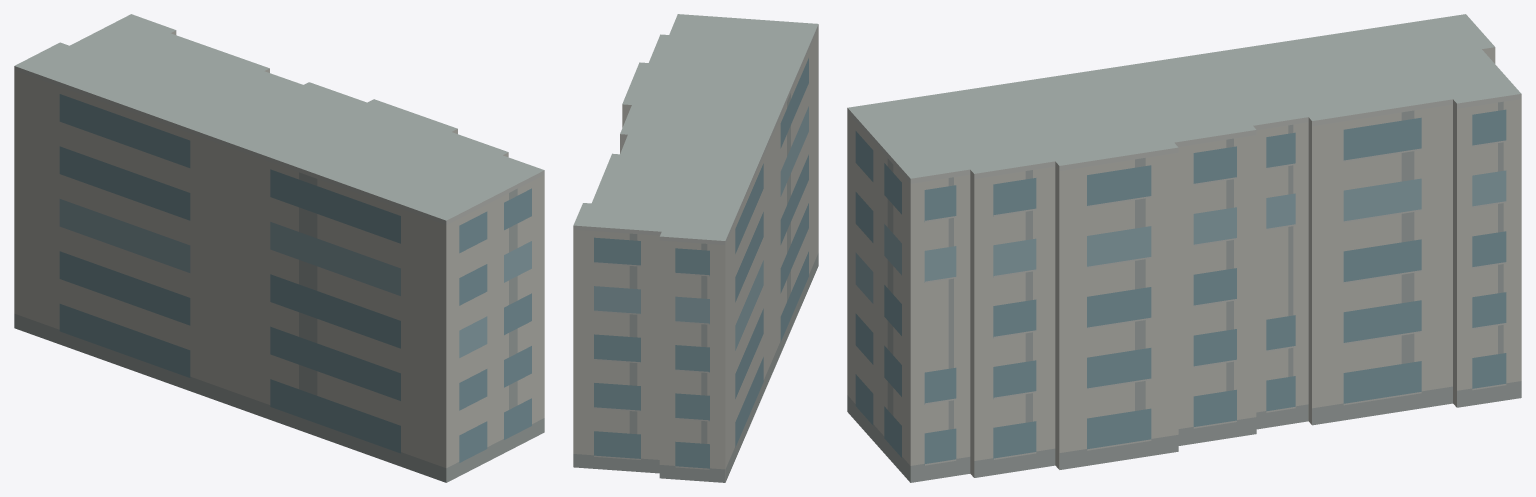
The model's file is survey-upis-32563613.glb.
The picture shows the model from 3 angles, left to right: view 1: azimuth 30°, elevation 25°; view 2: azimuth 150°, elevation 25°; view 3: azimuth 270°, elevation 25°; orthographic projection. The views are drawn at different scales.
Parts seen in each view (by area): view 1: survey-upis-32563613.tmp; view 2: survey-upis-32563613.tmp; view 3: survey-upis-32563613.tmp.
Boxes of the visible parts, <box> form: survey-upis-32563613.tmp: <box>14,14,544,482</box>; survey-upis-32563613.tmp: <box>573,14,818,482</box>; survey-upis-32563613.tmp: <box>847,14,1521,482</box>.
Size of the model in its own units: 16.73 by 14.4 by 28.93.
